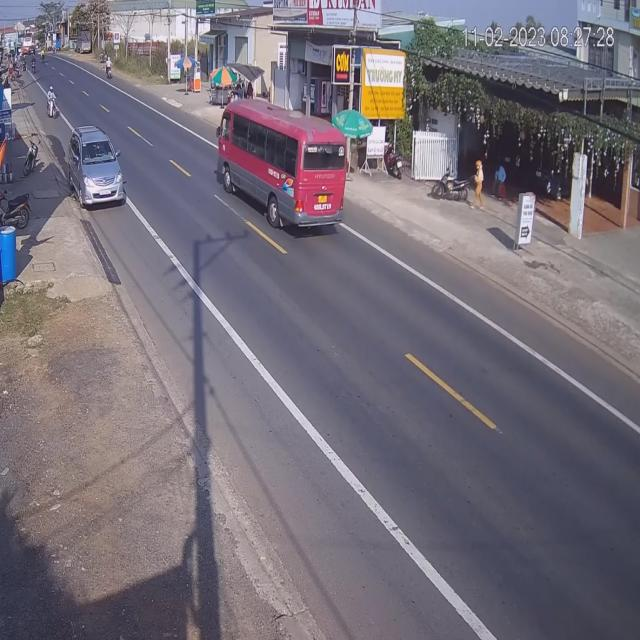bus: (219, 96, 349, 232)
car: (67, 128, 124, 211)
motorbike: (49, 84, 60, 118)
